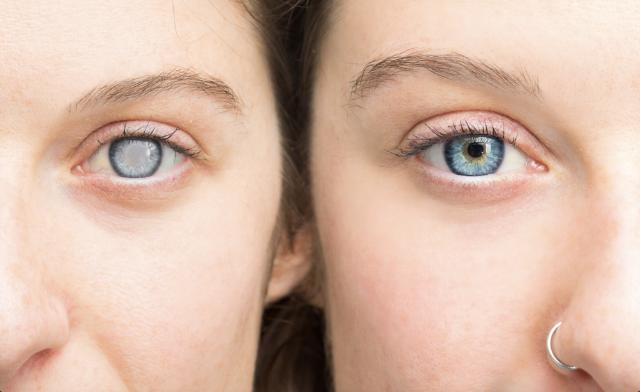eye: (112, 135, 164, 178)
